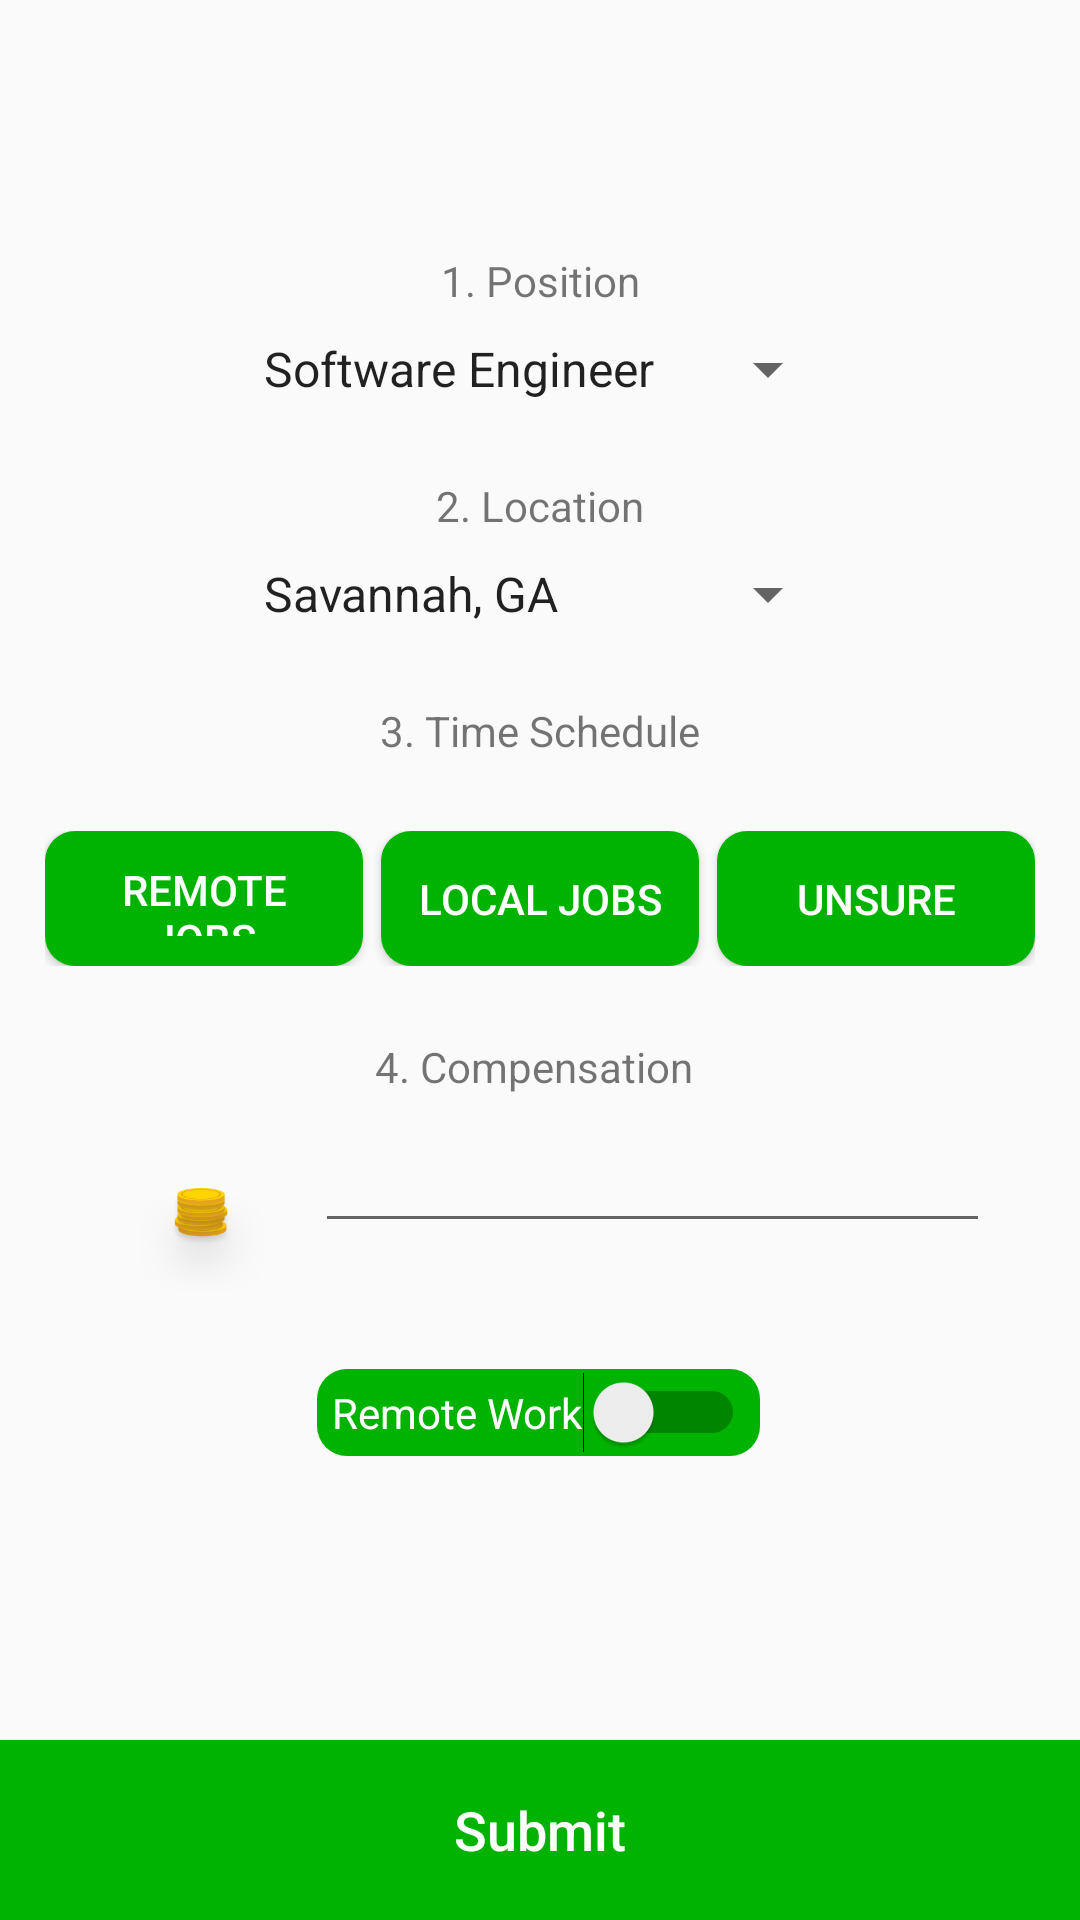

Screen size 1080×1920. Icon name, then its center in pixels as (x,y):
coin stack: (201,1215)
